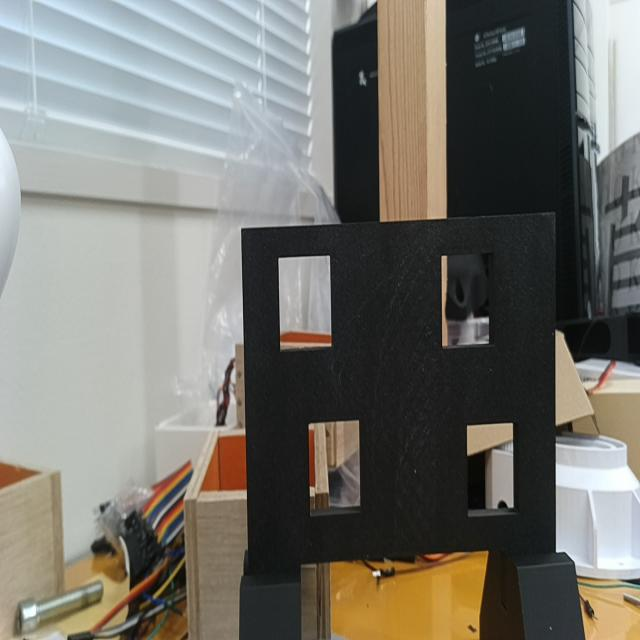Obstacle: (279, 256, 332, 351), (309, 420, 361, 514), (442, 253, 489, 351), (467, 423, 515, 518)
Wall: (242, 214, 556, 568)
